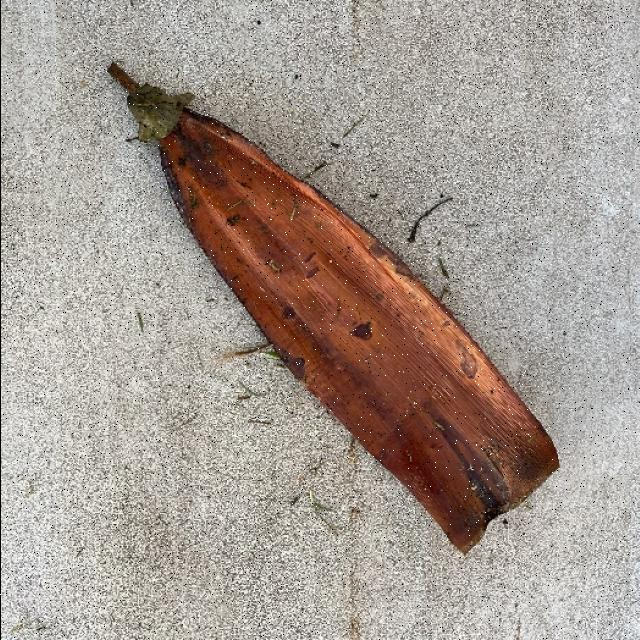organik: (100, 35, 561, 585)
